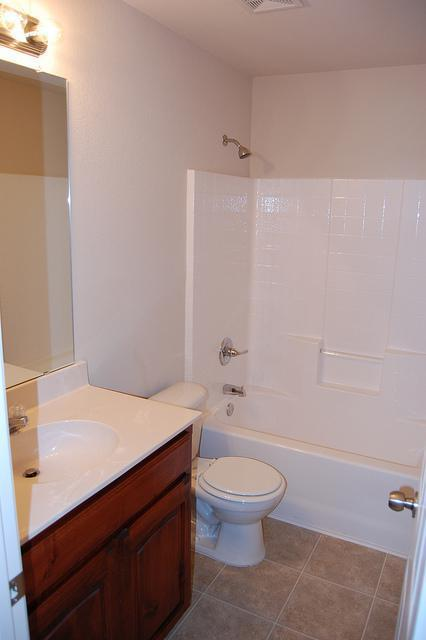Ducha: (176, 123, 263, 400)
Lavamanos: (0, 404, 126, 517)
Sanitario: (154, 382, 285, 580)
